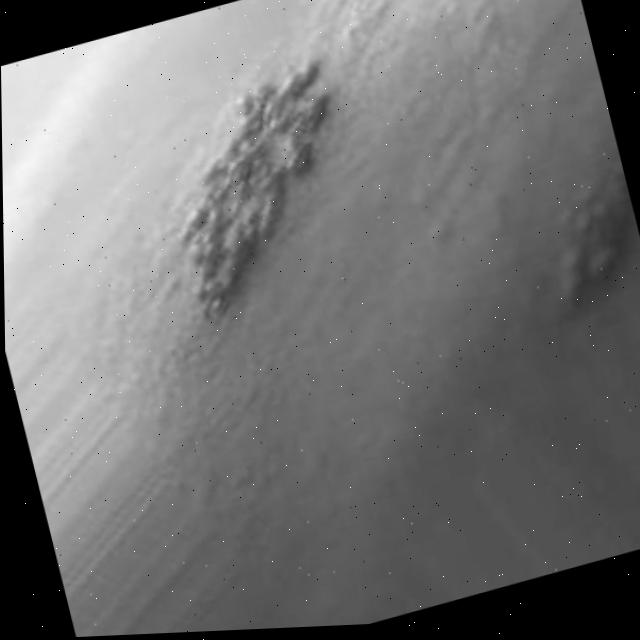Shingles: (131, 52, 380, 335), (520, 148, 640, 316)
